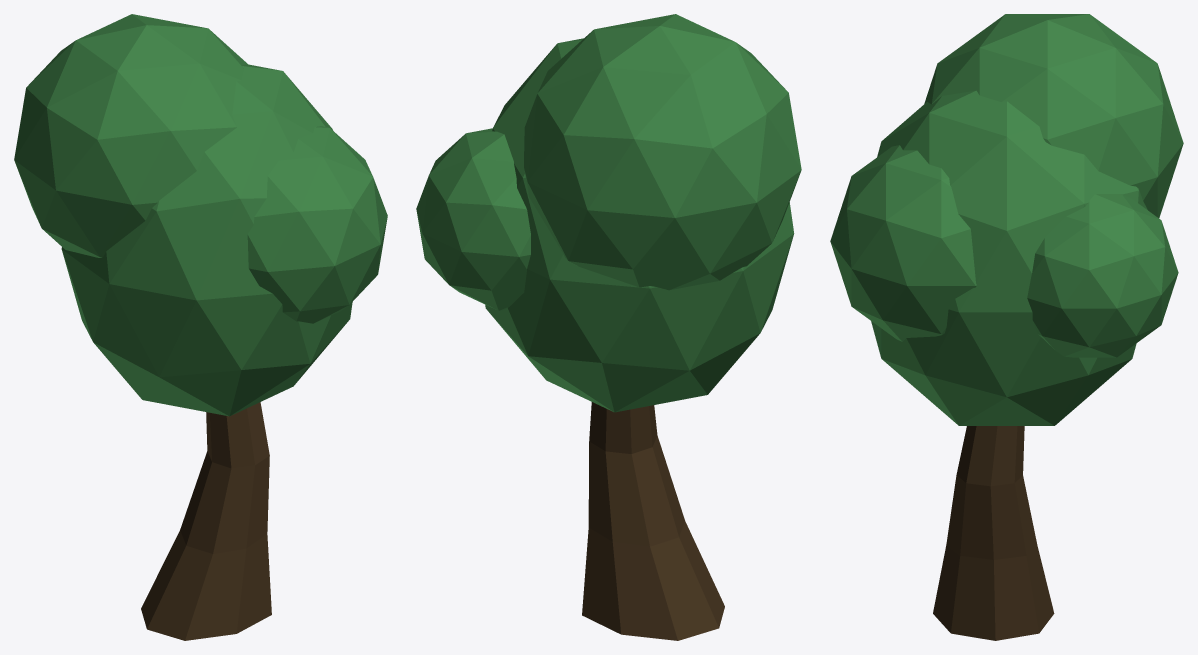
The model's file is Tree.001.fbx.
3 renders of one model, left to right at view 1: azimuth 30°, elevation 25°; view 2: azimuth 150°, elevation 25°; view 3: azimuth 270°, elevation 25°, orthographic. The views are drawn at different scales.
Visible parts, largest first — view 1: Icosphere.006, Tree.001; view 2: Icosphere.006, Tree.001; view 3: Icosphere.006, Tree.001.
Part boxes in pixels (x1,y1,x2,y2): Icosphere.006: (14, 14, 387, 416); Tree.001: (141, 402, 271, 640); Icosphere.006: (416, 14, 801, 412); Tree.001: (582, 402, 724, 640); Icosphere.006: (830, 14, 1183, 425); Tree.001: (933, 426, 1054, 640).
Size of what is drawn, in the model's own units: 632 by 1143 by 632.
